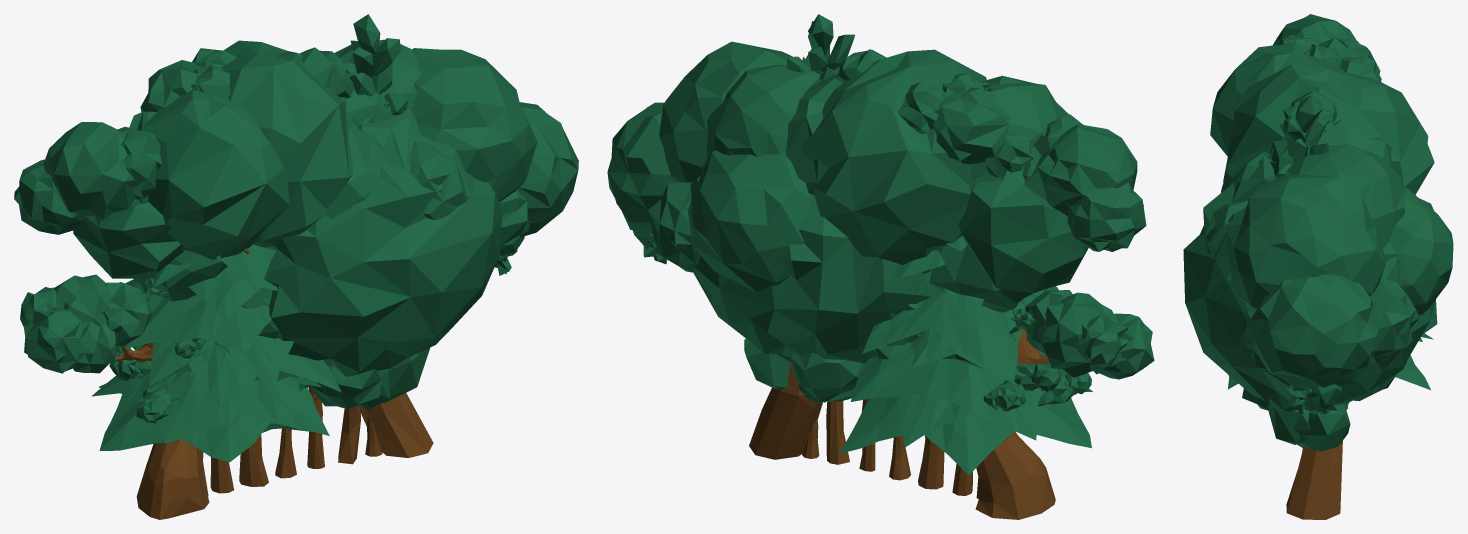
Rendered from take4.fbx.
3 views of the same model, side by side, from view 1: azimuth 30°, elevation 25°; view 2: azimuth 150°, elevation 25°; view 3: azimuth 270°, elevation 25° (orthographic). The views are drawn at different scales.
Parts seen in each view (by area): view 1: Tree_04.001, Tree_07.001, Tree_01.001, Tree_09.001, Tree_03.001, Tree_08.001, Tree_06.001, Tree_05.001, Tree_02.001; view 2: Tree_04.001, Tree_09.001, Tree_01.001, Tree_03.001, Tree_07.001, Tree_08.001, Tree_02.001, Tree_05.001, Tree_06.001; view 3: Tree_09.001, Tree_04.001, Tree_07.001, Tree_08.001, Tree_01.001, Tree_06.001, Tree_03.001, Tree_05.001.
Part boxes in pixels (x1,y1,x2,y2): Tree_04.001: [73, 40, 394, 486]; Tree_07.001: [264, 109, 502, 464]; Tree_01.001: [14, 48, 236, 519]; Tree_09.001: [325, 39, 578, 457]; Tree_03.001: [91, 244, 341, 493]; Tree_08.001: [343, 14, 429, 456]; Tree_06.001: [215, 47, 375, 468]; Tree_05.001: [176, 295, 386, 478]; Tree_02.001: [109, 79, 307, 496]; Tree_04.001: [786, 49, 1088, 489]; Tree_09.001: [607, 41, 931, 459]; Tree_01.001: [898, 73, 1154, 519]; Tree_03.001: [827, 236, 1093, 495]; Tree_07.001: [690, 175, 937, 464]; Tree_08.001: [744, 14, 854, 458]; Tree_02.001: [976, 82, 1091, 498]; Tree_05.001: [778, 337, 910, 480]; Tree_06.001: [834, 49, 923, 471]; Tree_09.001: [1205, 144, 1453, 519]; Tree_04.001: [1210, 43, 1434, 194]; Tree_07.001: [1183, 157, 1437, 411]; Tree_08.001: [1266, 95, 1350, 451]; Tree_01.001: [1272, 14, 1381, 409]; Tree_06.001: [1268, 91, 1337, 167]; Tree_03.001: [1227, 333, 1433, 389]; Tree_05.001: [1242, 374, 1396, 410].
Bounding box in the file's own units: 1908 × 1490 × 913.
